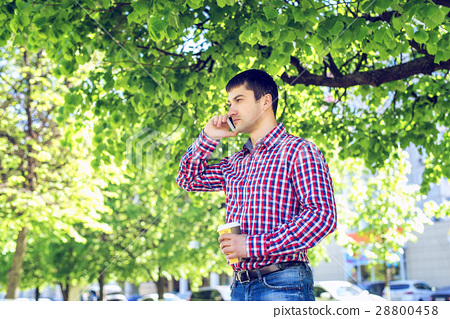phone: (215, 103, 238, 137)
